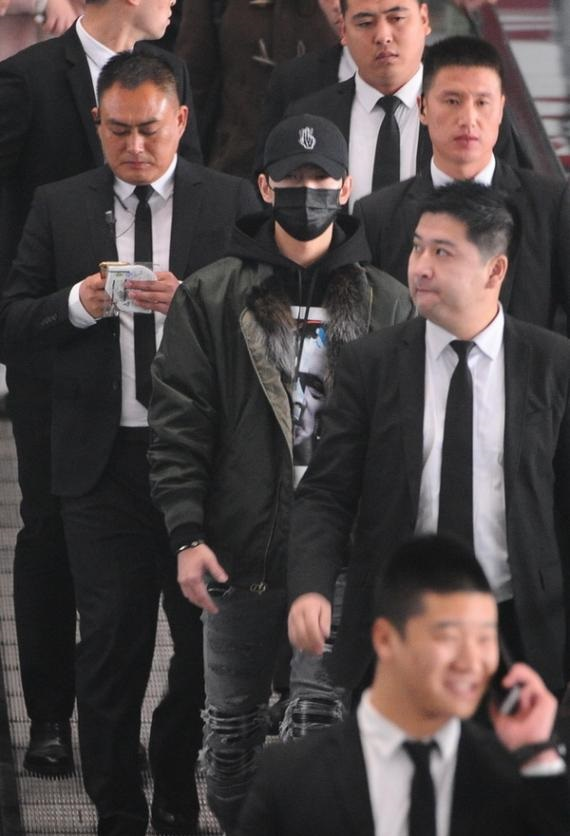face: (403, 585, 494, 719), (407, 210, 482, 326), (429, 62, 499, 166), (103, 86, 173, 185), (347, 1, 419, 84), (132, 1, 179, 40)
face_mask: (274, 150, 337, 245)
